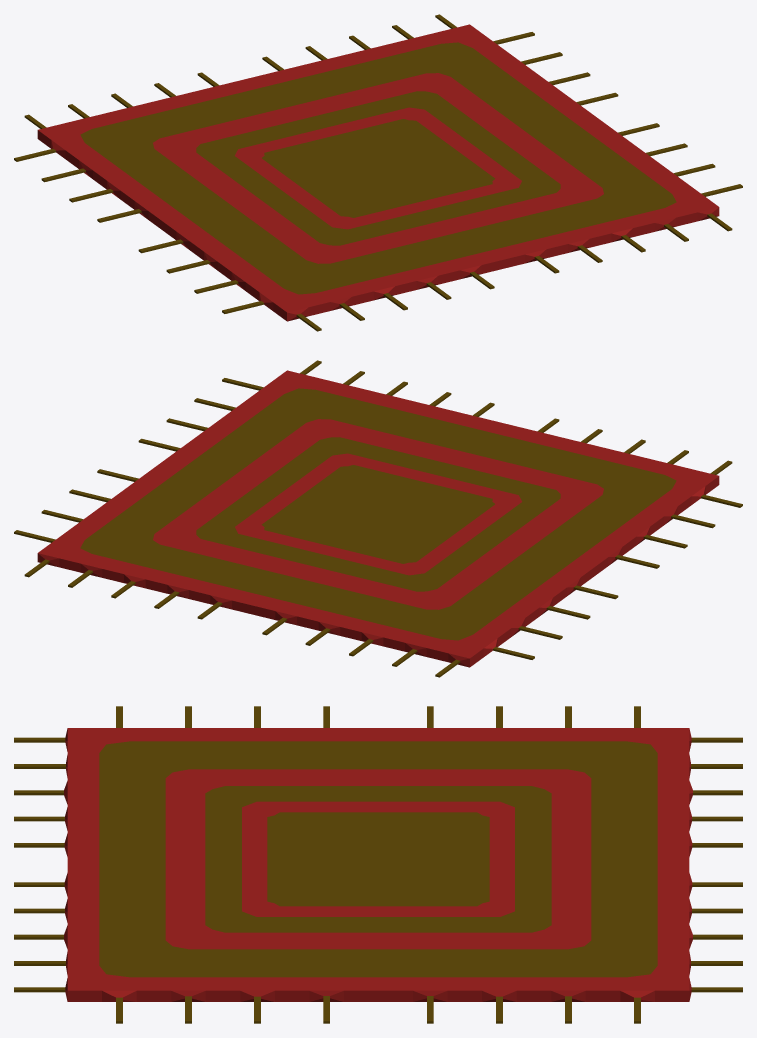
The model's file is rug.fbx.
3 renders of one model, top to bottom at view 1: azimuth 30°, elevation 25°; view 2: azimuth 150°, elevation 25°; view 3: azimuth 270°, elevation 25°, orthographic. The views are drawn at different scales.
Visible parts, largest first — view 1: Cube; view 2: Cube; view 3: Cube.
Boxes of the visible parts, x1,y1,x2,y2 form: Cube: (14, 14, 742, 331); Cube: (14, 360, 742, 677); Cube: (14, 706, 742, 1023).
Size of the model in its own units: 2398 by 40 by 2345.
